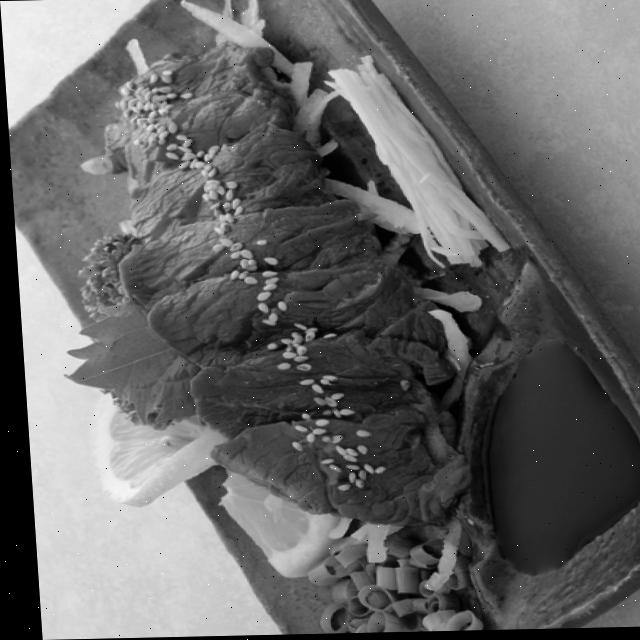刺身生食: (27, 29, 490, 550)
